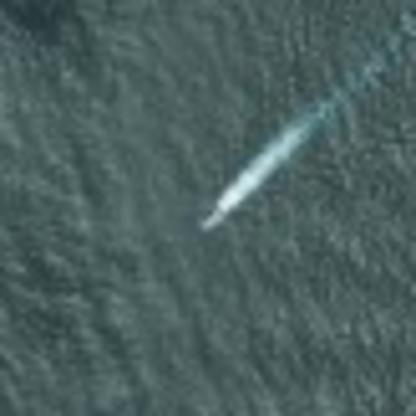ship: (195, 204, 225, 235)
